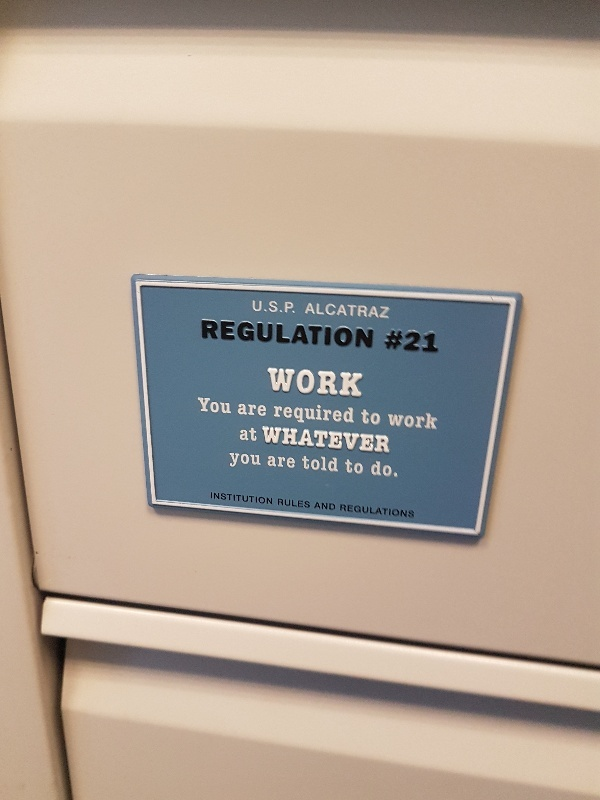text: (209, 319, 224, 350), (225, 319, 240, 350), (241, 319, 256, 350), (257, 319, 272, 350), (273, 319, 288, 350), (289, 319, 304, 350), (305, 319, 320, 350), (321, 319, 336, 350), (337, 319, 352, 350), (353, 319, 368, 350), (273, 368, 288, 399), (289, 368, 304, 399), (305, 368, 320, 399), (321, 368, 336, 399), (337, 368, 352, 399), (273, 426, 288, 454), (289, 426, 304, 454), (305, 426, 320, 454), (321, 426, 336, 454), (337, 426, 352, 454), (353, 426, 368, 454), (369, 426, 384, 454), (273, 401, 288, 428), (289, 401, 304, 428), (305, 401, 320, 428), (321, 401, 336, 428), (337, 401, 352, 428), (385, 329, 400, 353), (401, 329, 416, 353), (417, 329, 432, 353), (353, 368, 364, 399), (401, 411, 416, 430), (417, 411, 432, 430), (262, 426, 272, 454), (209, 397, 224, 415), (305, 455, 320, 473), (321, 455, 336, 473), (385, 460, 399, 479), (321, 303, 336, 319), (337, 303, 352, 319), (353, 303, 368, 319), (369, 303, 384, 319), (369, 408, 381, 427), (372, 460, 384, 479), (241, 427, 256, 442), (241, 453, 256, 468), (273, 455, 288, 470), (353, 504, 368, 519), (369, 504, 384, 519), (385, 504, 400, 519), (401, 504, 416, 519), (201, 319, 208, 350), (369, 319, 376, 350), (257, 300, 272, 314), (273, 300, 288, 314), (241, 403, 256, 417), (389, 411, 400, 430), (307, 303, 320, 319), (353, 459, 365, 476), (225, 492, 240, 505), (241, 492, 256, 505), (257, 492, 272, 505), (198, 397, 208, 415), (211, 492, 224, 505), (433, 329, 440, 353), (385, 426, 391, 454), (229, 453, 240, 468), (289, 498, 304, 509), (341, 504, 352, 519), (267, 368, 272, 399), (257, 403, 267, 417), (321, 502, 336, 511), (361, 408, 368, 427), (225, 397, 232, 415), (289, 455, 297, 470), (345, 459, 352, 476), (289, 300, 297, 314), (278, 498, 288, 509), (385, 303, 391, 319), (433, 411, 438, 430), (257, 453, 263, 468), (305, 498, 311, 509), (268, 455, 272, 470), (252, 300, 256, 314), (301, 455, 304, 473), (237, 403, 240, 417), (337, 455, 339, 473), (353, 401, 354, 428), (317, 502, 320, 511), (257, 427, 258, 442), (273, 492, 274, 505)
